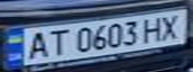0: (72, 25, 93, 54), (106, 20, 127, 48)
3: (121, 18, 145, 46)
6: (90, 21, 112, 52)
A: (21, 29, 51, 61)
H: (139, 15, 169, 44)
T: (42, 27, 69, 56)
X: (154, 11, 187, 40)
